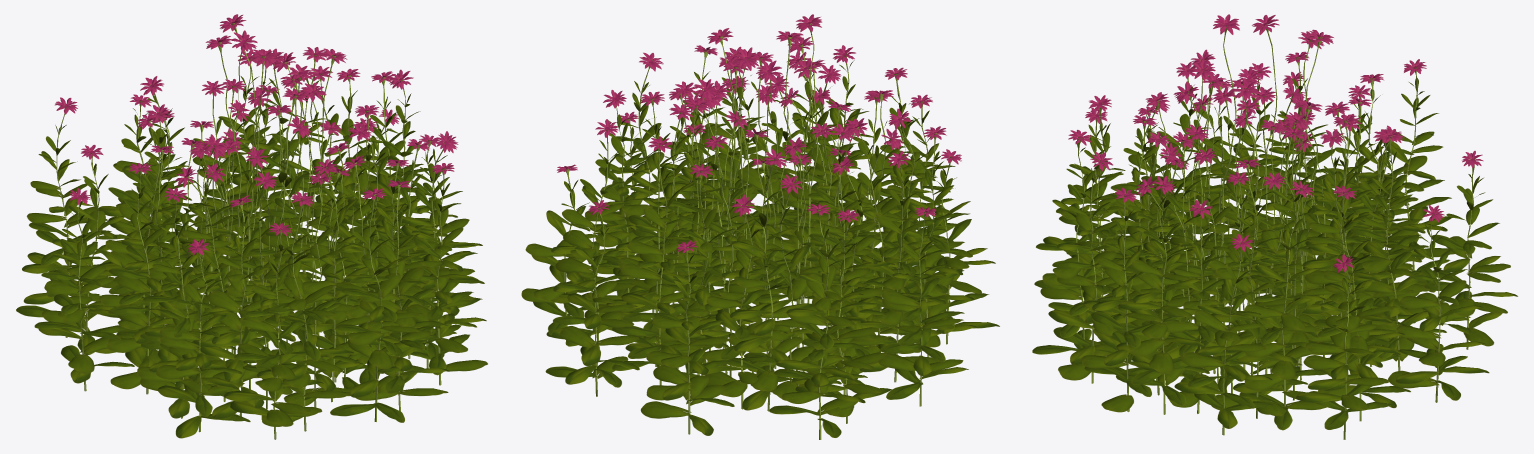
Rendered from flower.glb.
The picture shows the model from 3 angles, left to right: view 1: azimuth 30°, elevation 25°; view 2: azimuth 150°, elevation 25°; view 3: azimuth 270°, elevation 25°; orthographic projection.
Parts seen in each view (by area): view 1: flower; view 2: flower; view 3: flower.
Boxes of the visible parts, bbox=[...] form: flower: bbox=[16, 14, 487, 439]; flower: bbox=[521, 14, 999, 439]; flower: bbox=[1032, 14, 1517, 439].
Size of the model in its own units: 5.58 by 4.32 by 5.76.
Materials: 3 (3 with a texture image).
